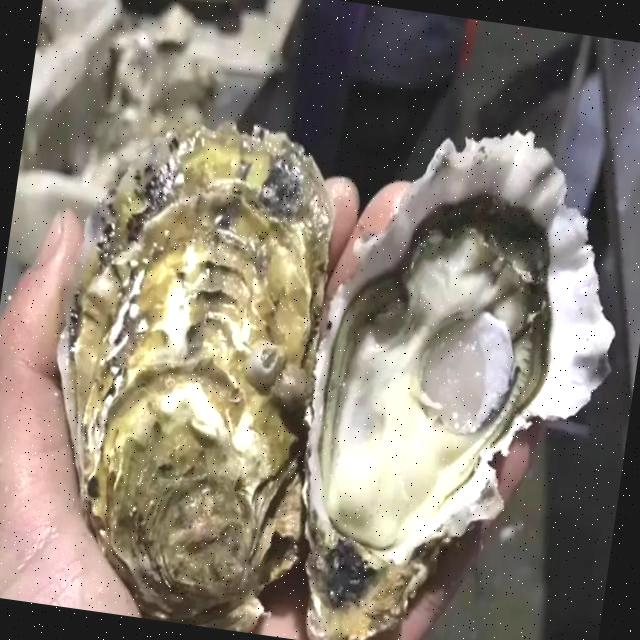Oyster-Closed: (58, 127, 333, 611)
Oyster-Open: (299, 124, 597, 640)
